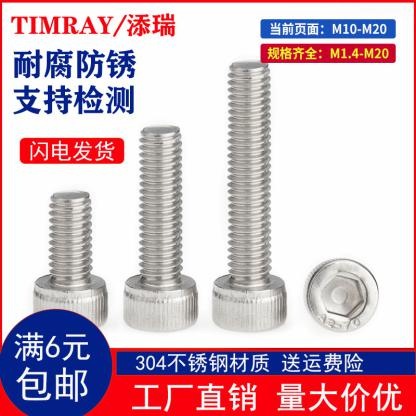FOD: (212, 57, 288, 336), (119, 124, 200, 335), (30, 188, 109, 331), (306, 257, 381, 334)
